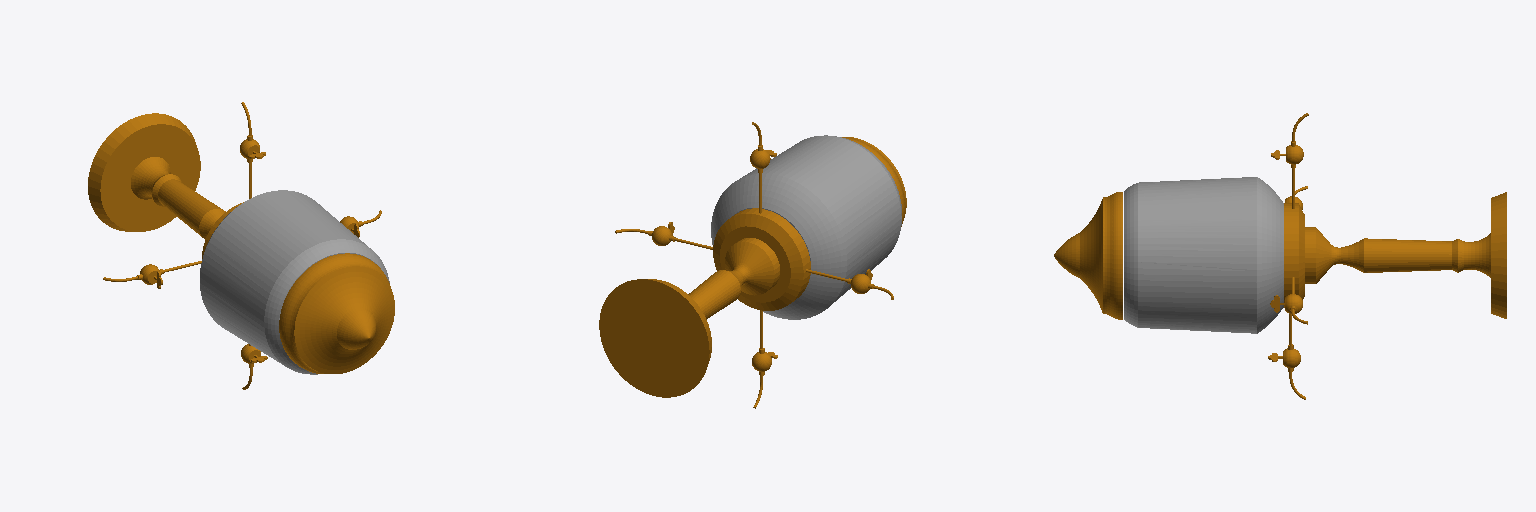
Rendered from Fontaine.obj.
3 views of the same model, side by side, from view 1: azimuth 30°, elevation 25°; view 2: azimuth 150°, elevation 25°; view 3: azimuth 270°, elevation 25° (orthographic).
Visible parts, largest first — view 1: Behaelter_Behaelter.001, Stiel_Stiel.001, Deckel_Deckel.001, Hahn.001_Hahn.000, Hahn.003; view 2: Stiel_Stiel.001, Behaelter_Behaelter.001, Deckel_Deckel.001, Hahn_Hahn.001, Hahn.002, Hahn.001_Hahn.000, Hahn.003; view 3: Behaelter_Behaelter.001, Stiel_Stiel.001, Deckel_Deckel.001, Hahn.003, Hahn.002, Hahn_Hahn.001.
Boxes of the visible parts, x1=… form: Behaelter_Behaelter.001: x1=200, y1=190, x2=389, y2=374; Stiel_Stiel.001: x1=88, y1=113, x2=243, y2=258; Deckel_Deckel.001: x1=279, y1=253, x2=394, y2=373; Hahn.001_Hahn.000: x1=103, y1=261, x2=201, y2=288; Hahn.003: x1=240, y1=102, x2=265, y2=198; Stiel_Stiel.001: x1=599, y1=208, x2=810, y2=397; Behaelter_Behaelter.001: x1=711, y1=135, x2=901, y2=319; Deckel_Deckel.001: x1=842, y1=137, x2=906, y2=226; Hahn_Hahn.001: x1=615, y1=222, x2=712, y2=249; Hahn.002: x1=752, y1=310, x2=777, y2=408; Hahn.001_Hahn.000: x1=806, y1=269, x2=893, y2=299; Hahn.003: x1=750, y1=122, x2=776, y2=213; Behaelter_Behaelter.001: x1=1124, y1=177, x2=1283, y2=333; Stiel_Stiel.001: x1=1284, y1=192, x2=1506, y2=318; Deckel_Deckel.001: x1=1054, y1=192, x2=1122, y2=319; Hahn.003: x1=1271, y1=113, x2=1308, y2=208; Hahn.002: x1=1268, y1=314, x2=1305, y2=399; Hahn_Hahn.001: x1=1270, y1=277, x2=1307, y2=324.
Bounding box in the file's own units: 2.28 × 2.25 × 3.22.